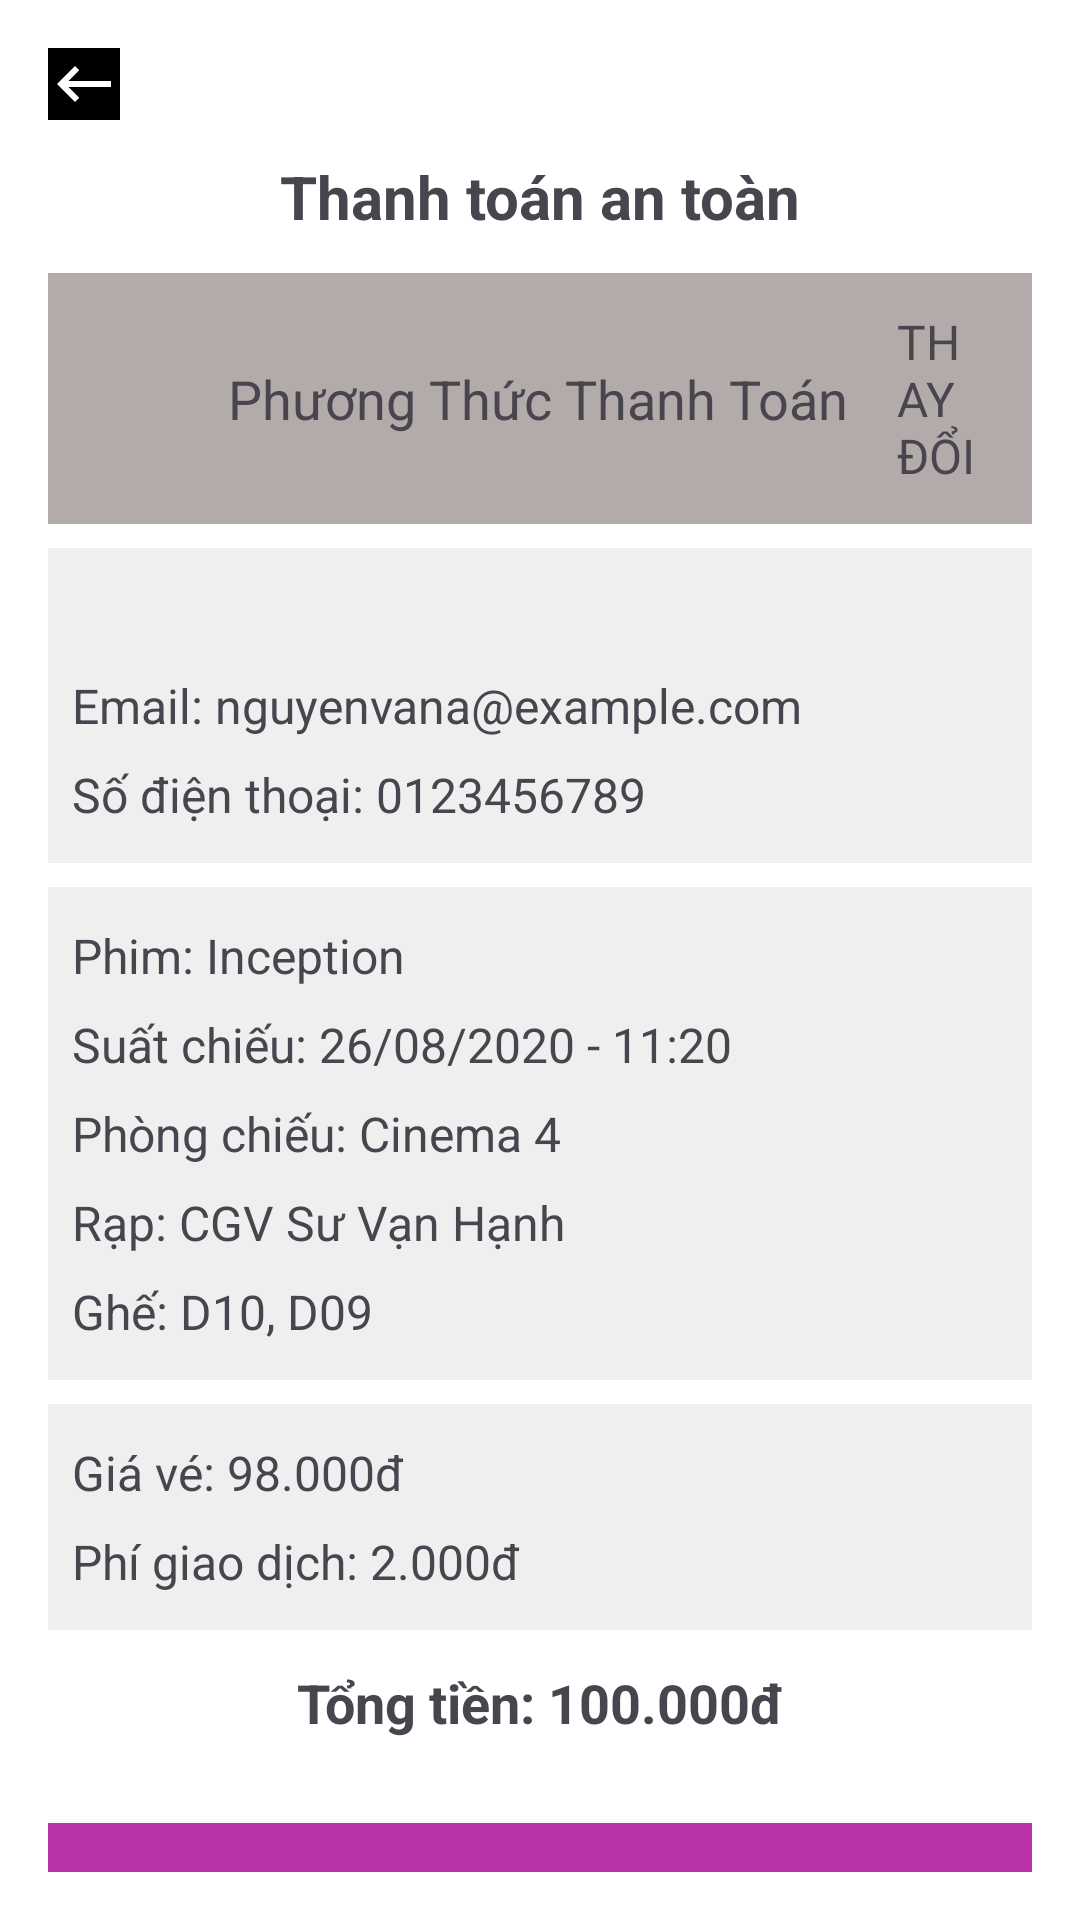

Screen size 1080w x 1920h. Icon name, then its center in pixels as (x=x, y=y):
keyboard backspace: (x=84, y=84)
